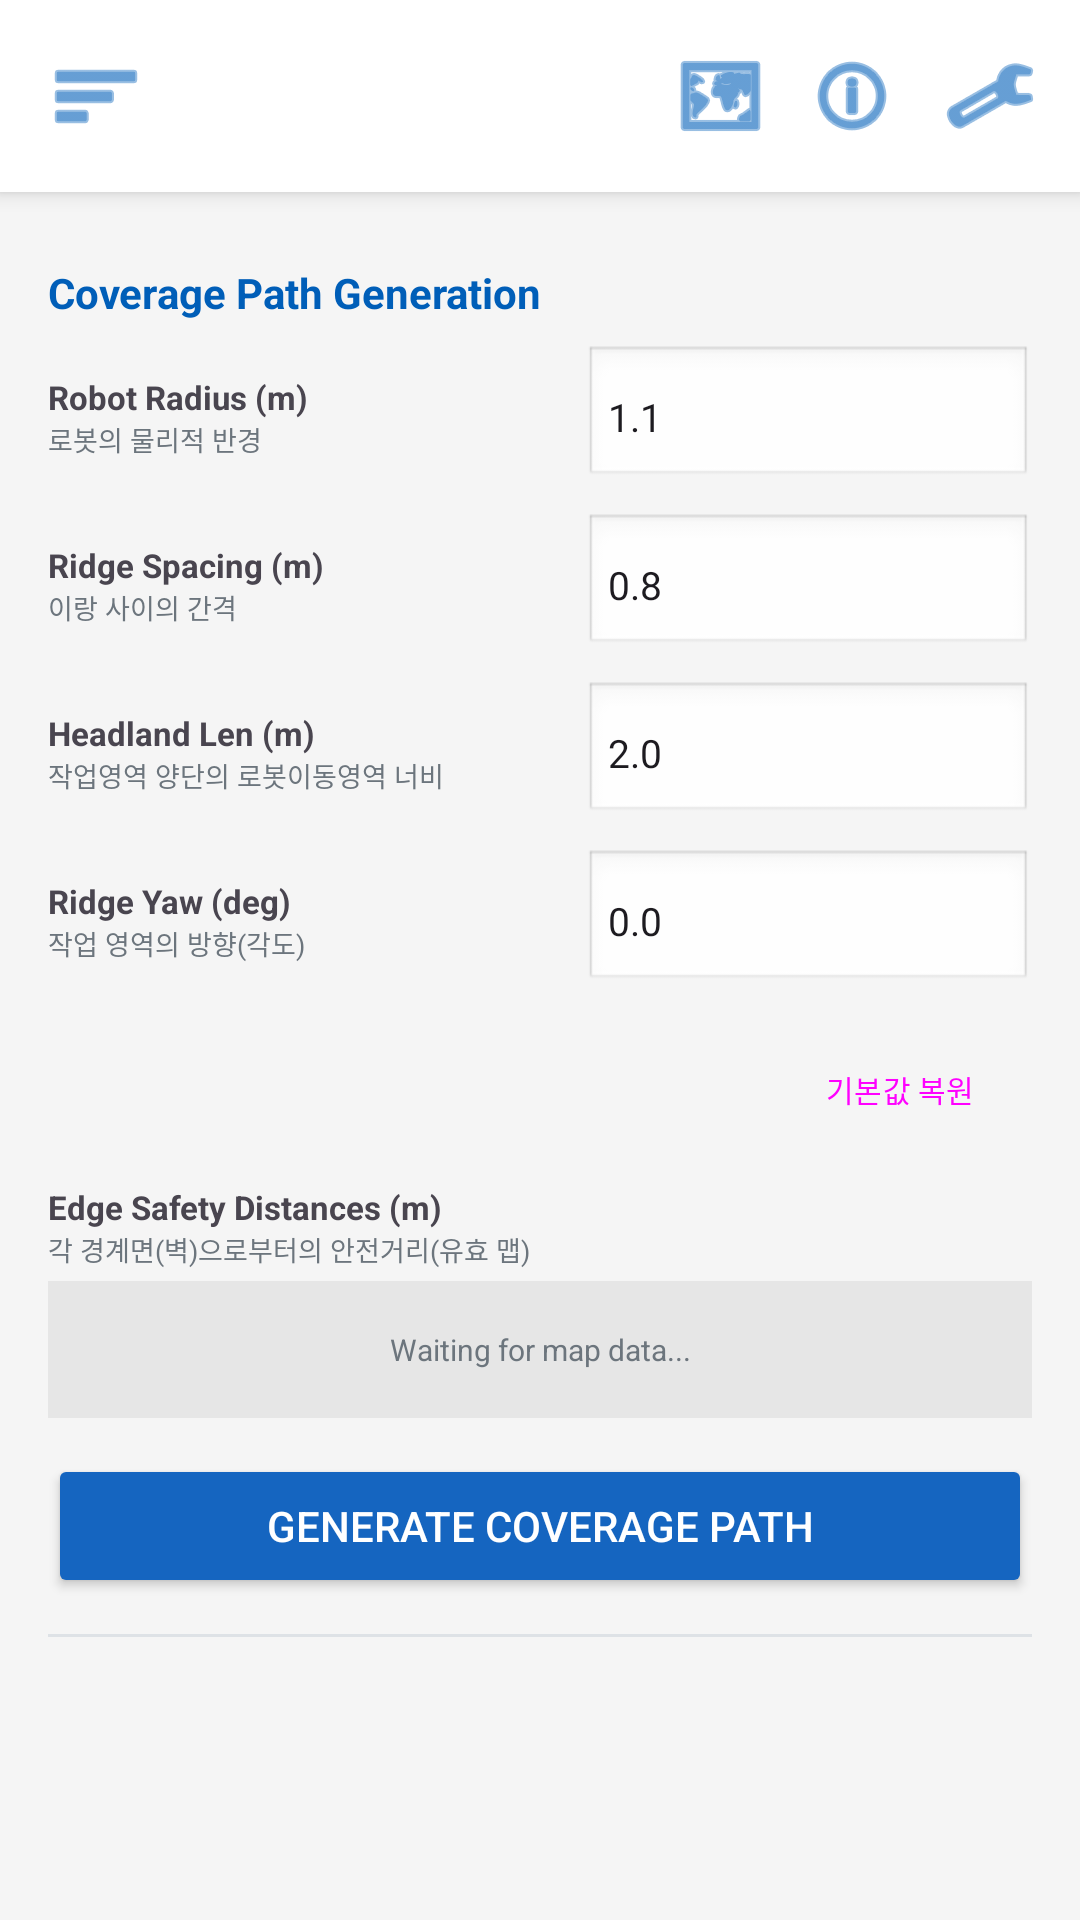

Named icons in this screenshot (1080×1920) and their bounding boxes, bbox=[x1, y1, x2, y2]:
info details: bbox=[817, 61, 887, 131]
manage: bbox=[947, 63, 1033, 129]
mapmode: bbox=[680, 61, 761, 131]
sort by size: bbox=[55, 70, 137, 123]
